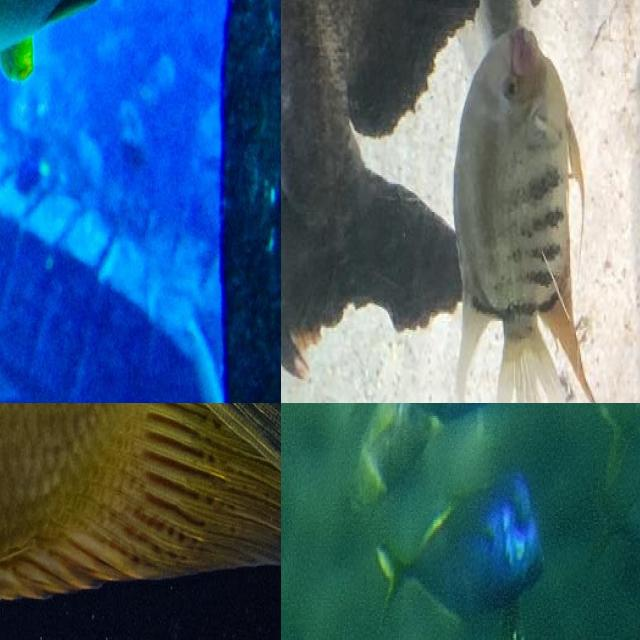fish: (0, 0, 281, 403), (281, 0, 472, 361), (93, 403, 281, 640)
